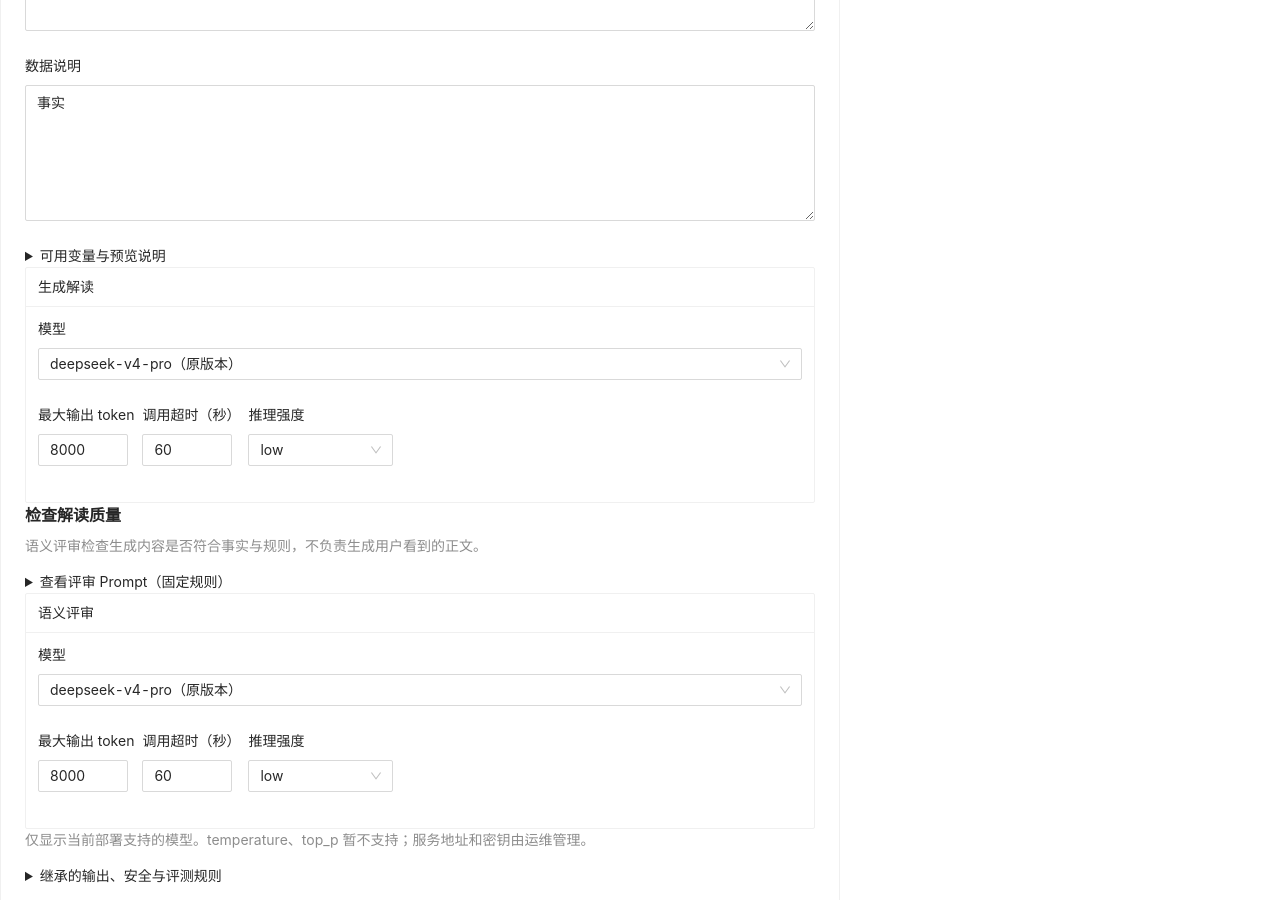
Test: autosaves supported parameters and keeps prepare disabled until the server acknowledges them
The width and height of the screenshot is (1280, 900).
(page scrolled)
Replace the text in the number field named "生成解读输出上限" with "4000" at point(83, 450), box [39,435,127,465]
Wait 1600 ms
(page scrolled)
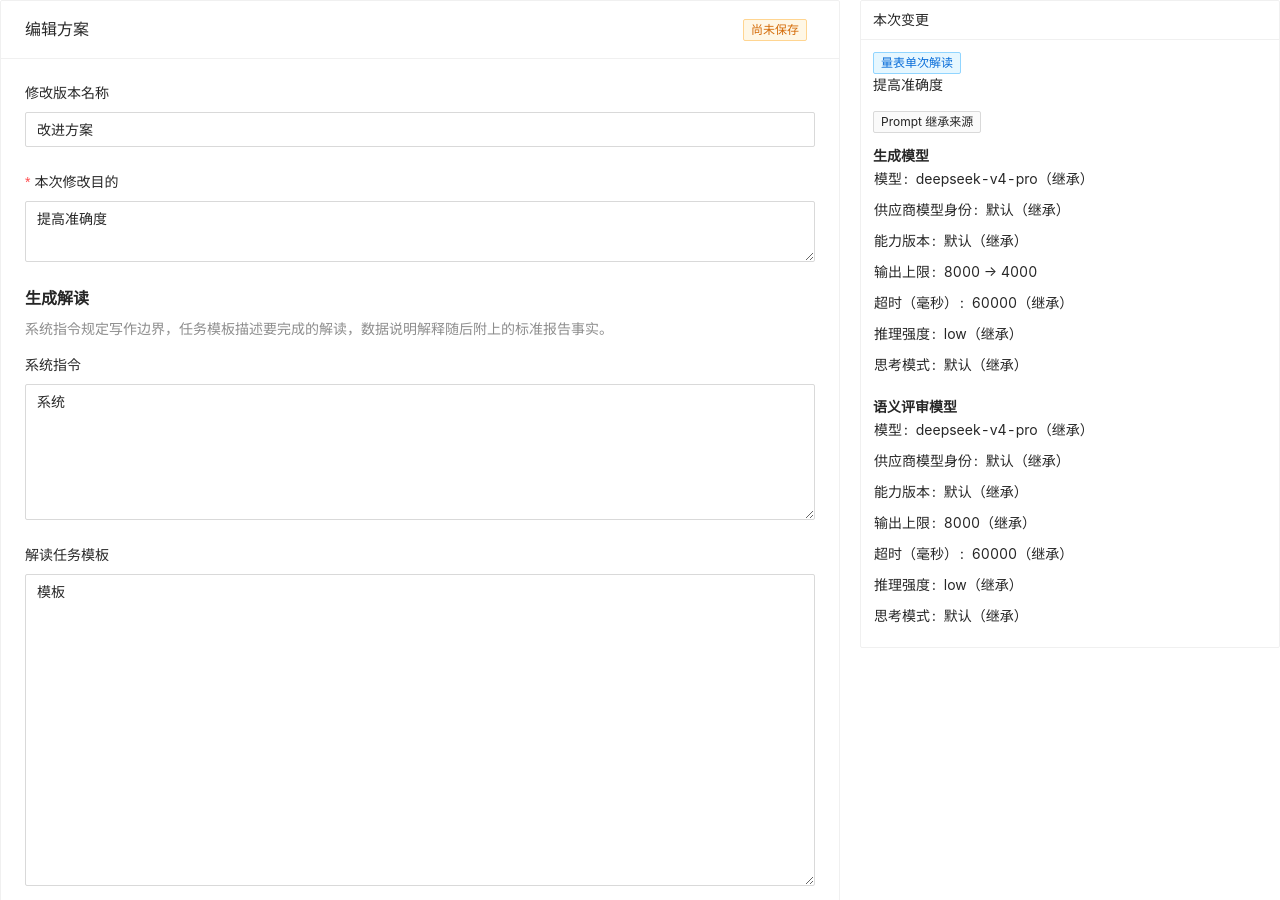
Now the text "尚未保存" is shown, box [743,19,807,41]
